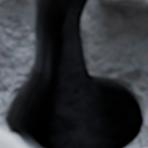brick: (100, 0, 147, 6)
broken_brick: (0, 127, 26, 147)
crack: (2, 0, 145, 147)
